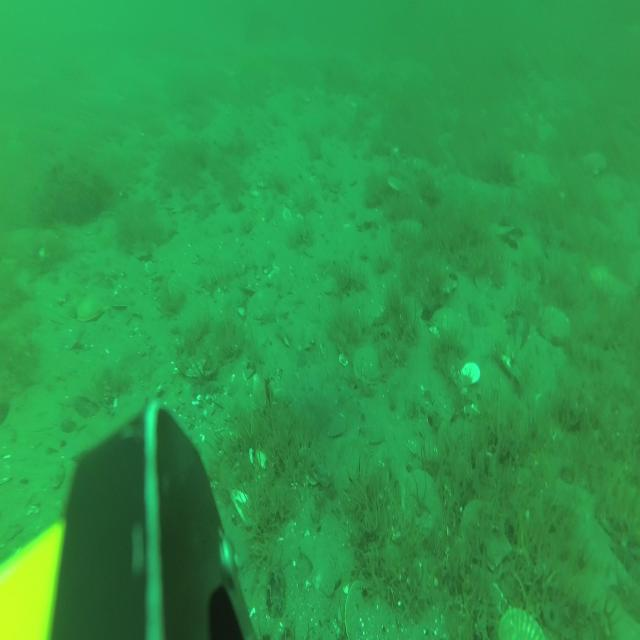scallop: (460, 494, 513, 572), (344, 574, 401, 640), (499, 599, 548, 640), (536, 300, 573, 346), (353, 342, 384, 387), (246, 283, 280, 321), (74, 290, 108, 326), (428, 258, 458, 293), (580, 146, 608, 179)
